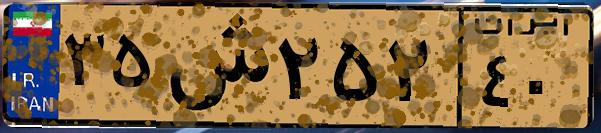0: (525, 38, 570, 115)
2: (270, 28, 330, 110), (385, 28, 445, 110)
3: (57, 26, 110, 100)
4: (475, 38, 525, 113)
5: (330, 28, 385, 110), (110, 28, 158, 98)
ش: (158, 12, 270, 120)
